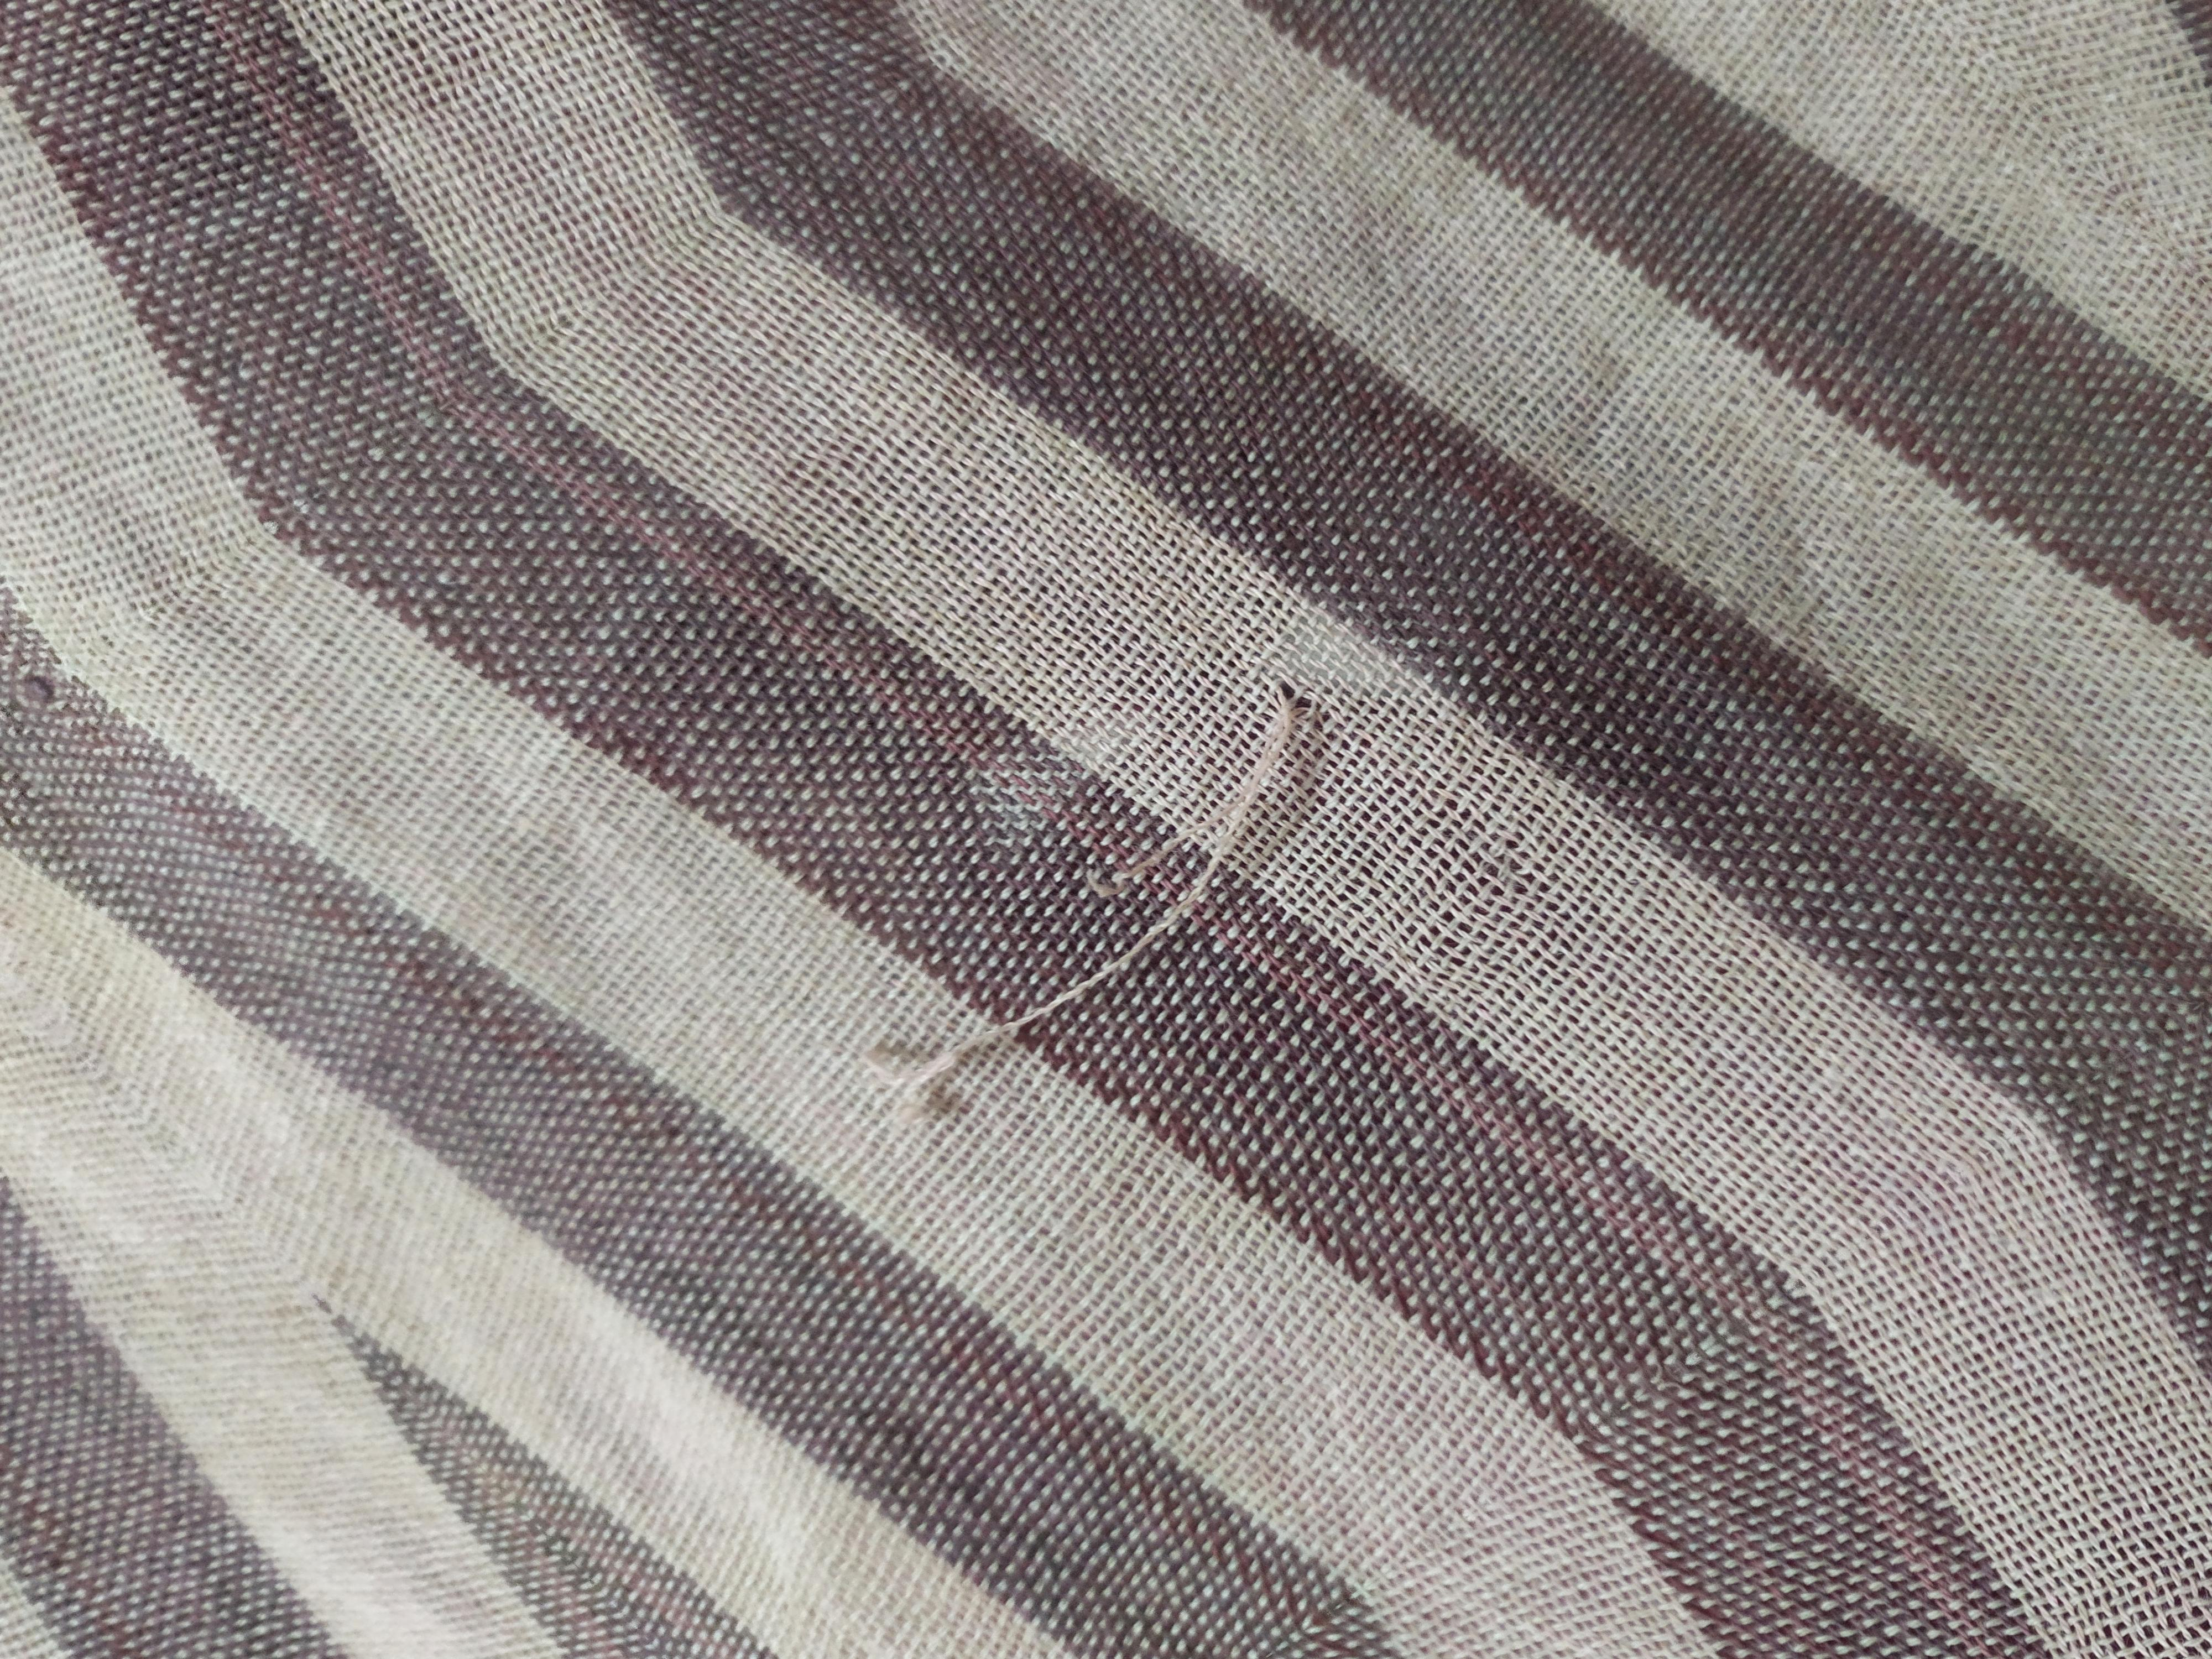snag: (810, 643, 1343, 1143)
